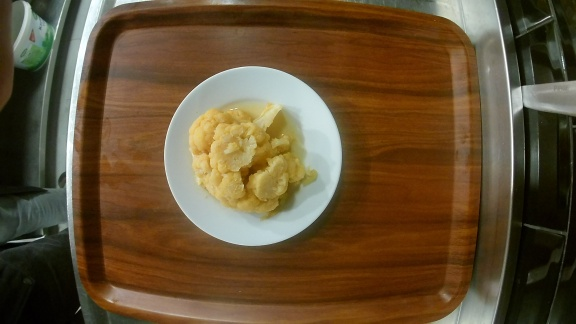karnibahar: (162, 64, 344, 250)
